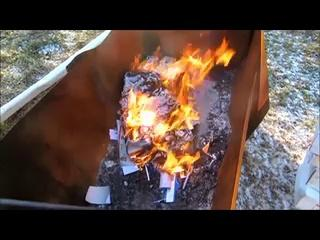Fire: (120, 36, 232, 172)
